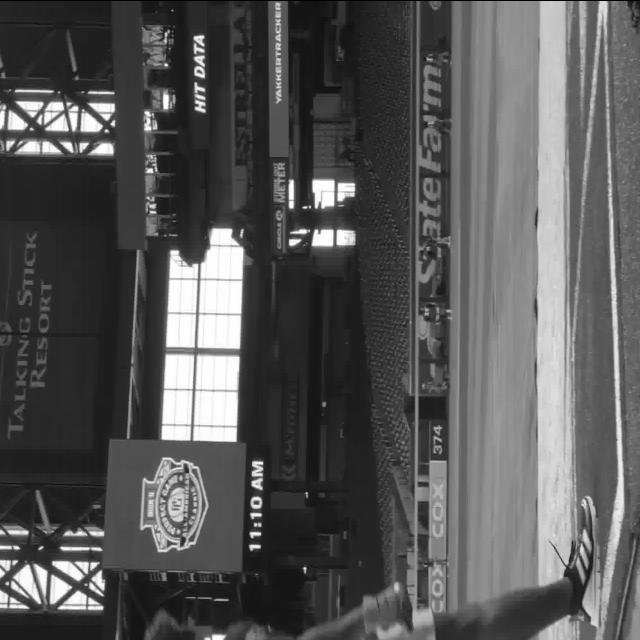shoe: (563, 494, 601, 626)
